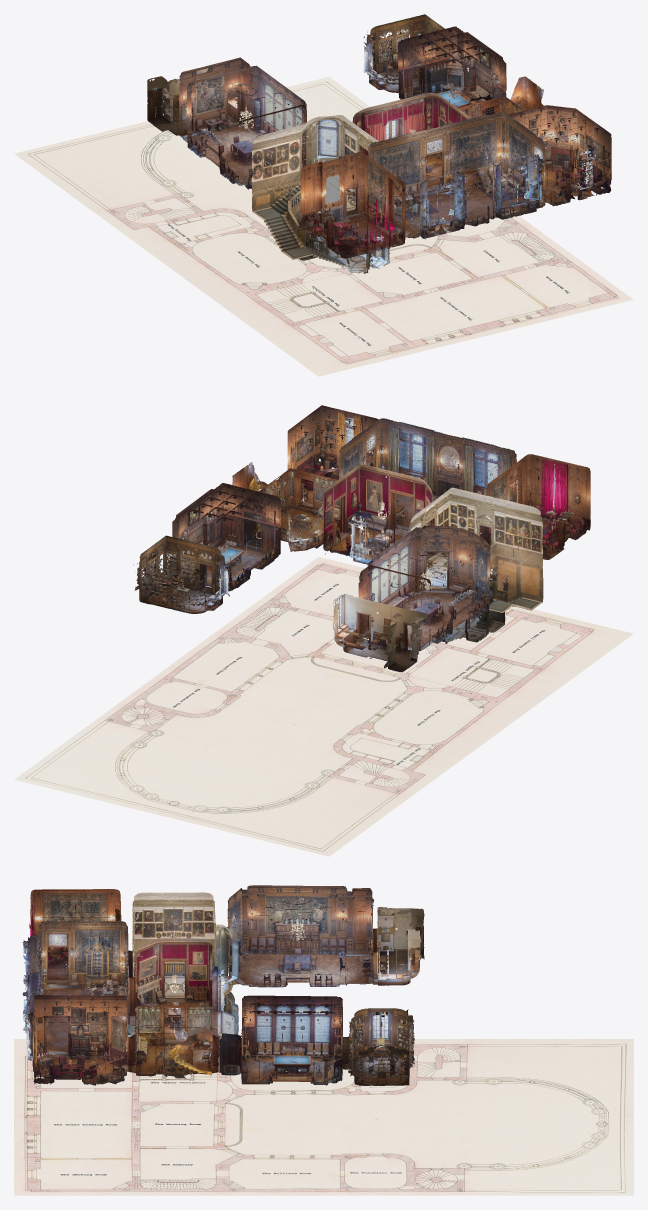
File: the_hallwyl_museum_1st_floor_combined.glb
3 renders of one model, top to bottom at view 1: azimuth 30°, elevation 25°; view 2: azimuth 150°, elevation 25°; view 3: azimuth 270°, elevation 25°, orthographic.
Size of the model in its own units: 28.63 by 14.74 by 47.92.
Materials: 12 (11 with a texture image).
